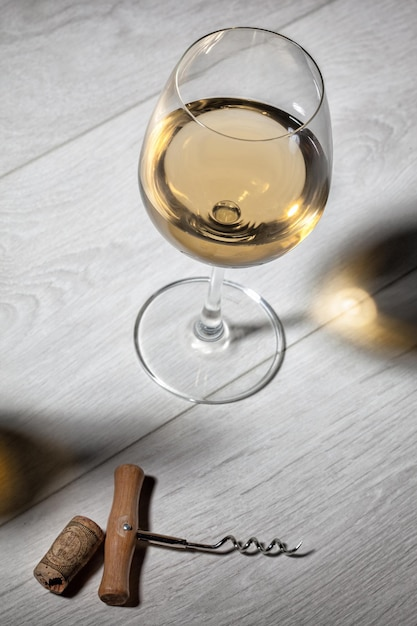alcohol: (130, 25, 334, 406)
